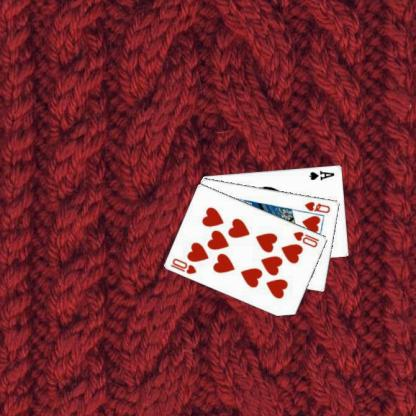10H: (290, 228, 320, 249), (168, 255, 198, 275)
AS: (307, 168, 336, 181)
QH: (302, 199, 332, 214)
